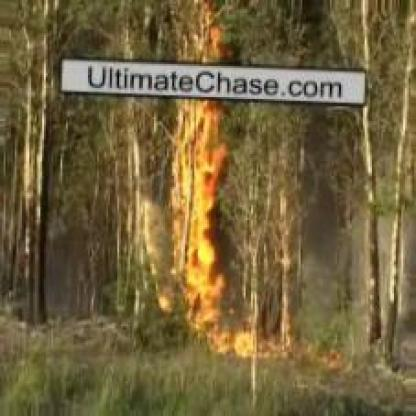fire: (168, 2, 257, 353)
